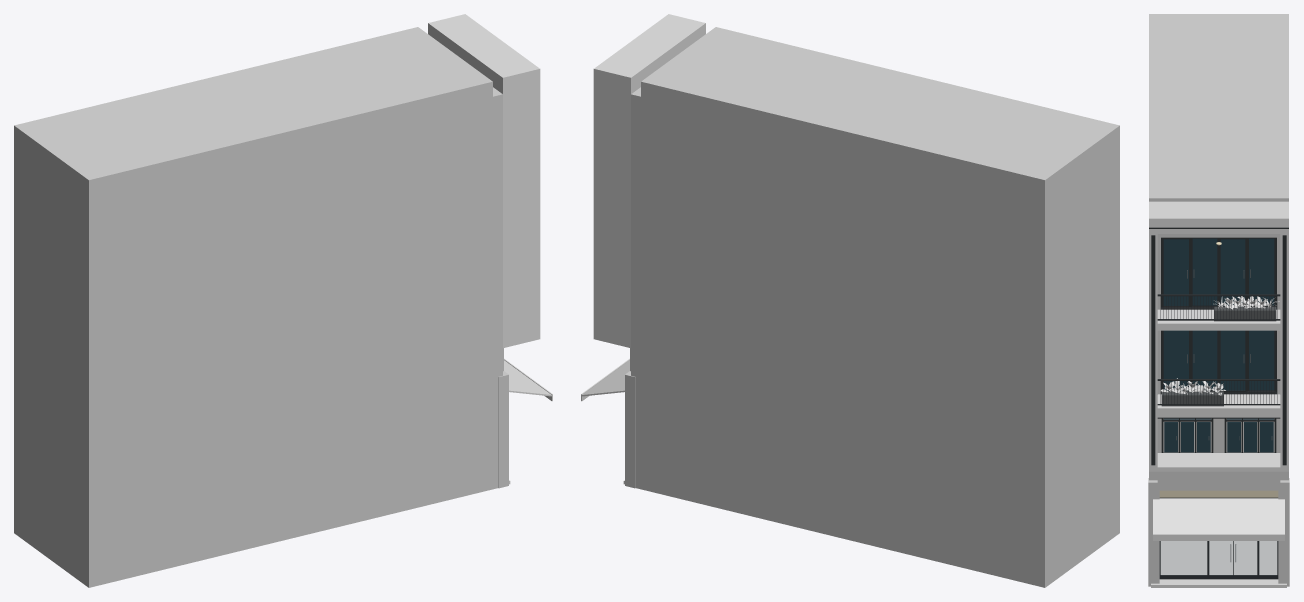
The model's file is OW_Mau_NhaPho_5_0_2_B.fbx.
The picture shows the model from 3 angles, left to right: view 1: azimuth 30°, elevation 25°; view 2: azimuth 150°, elevation 25°; view 3: azimuth 270°, elevation 25°; orthographic projection. The views are drawn at different scales.
Parts seen in each view (by area): view 1: OW_NhaPho_9013; view 2: OW_NhaPho_9013; view 3: OW_NhaPho_9013, OW_MatTienKinh.
Boxes of the visible parts, left/top/right/bottom form: OW_NhaPho_9013: left=14, top=14, right=552, bottom=587; OW_NhaPho_9013: left=581, top=14, right=1119, bottom=587; OW_NhaPho_9013: left=1148, top=14, right=1289, bottom=587; OW_MatTienKinh: left=1159, top=490, right=1278, bottom=579.
Bounding box in the file's own units: 17.77 × 14.9 × 5.
